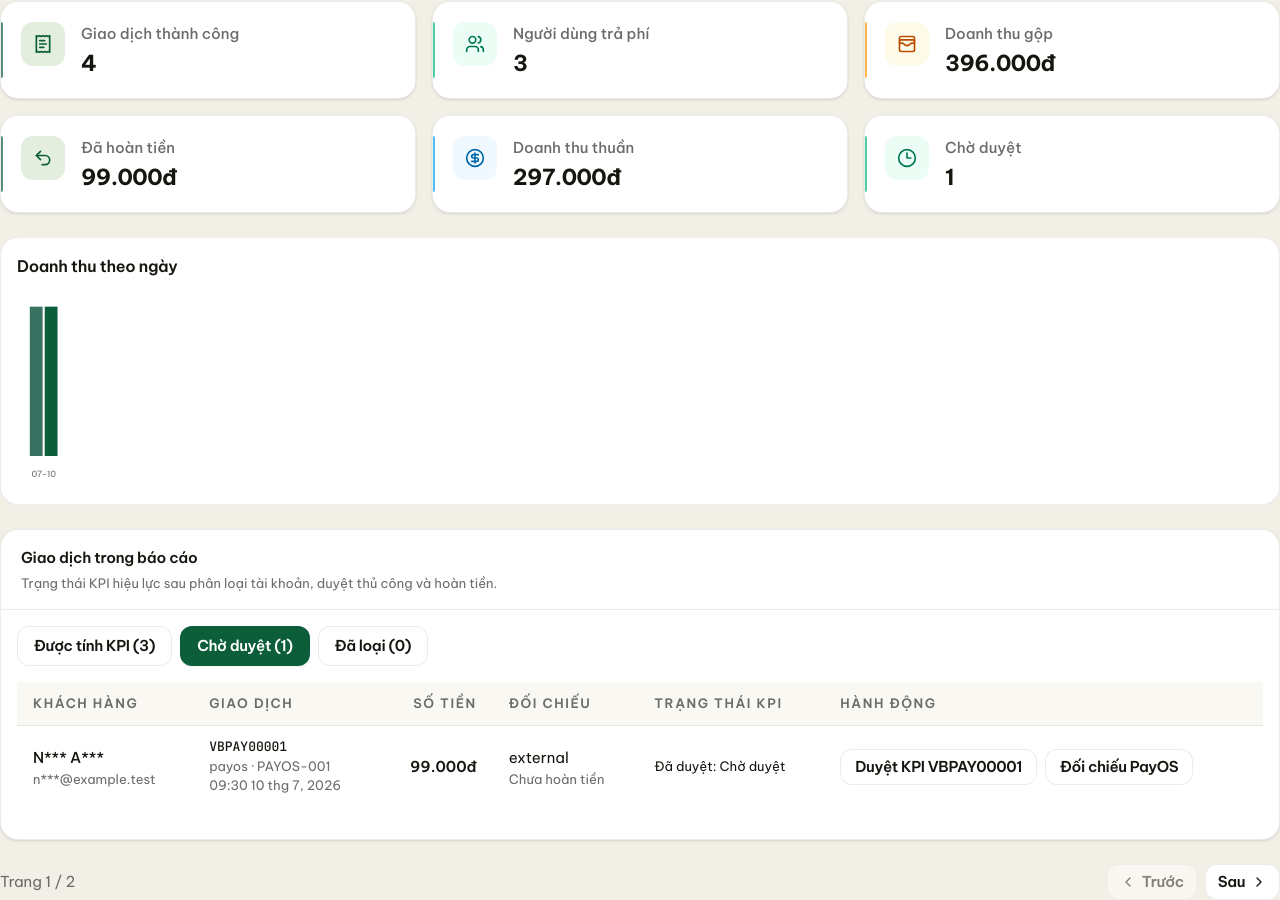
Scenario: AdminSalesReportPage › keeps review dialog open with a retryable error when PATCH fails
(page scrolled)
Click the button "Duyệt KPI VBPAY00001": (939,766) left=840, top=748, right=1037, bottom=784
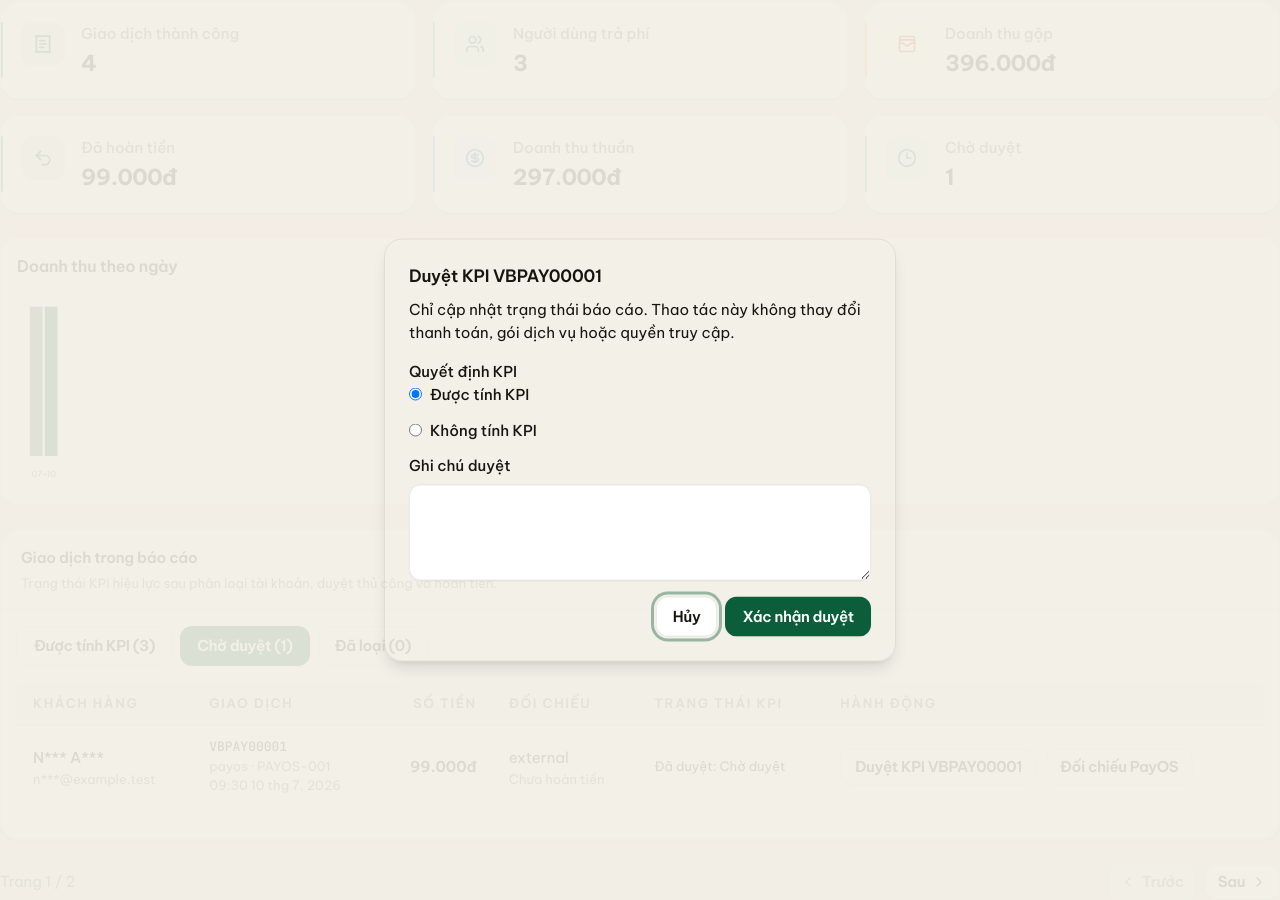
Click the radio button labelled "Được tính KPI": (416,394) left=409, top=388, right=422, bottom=401
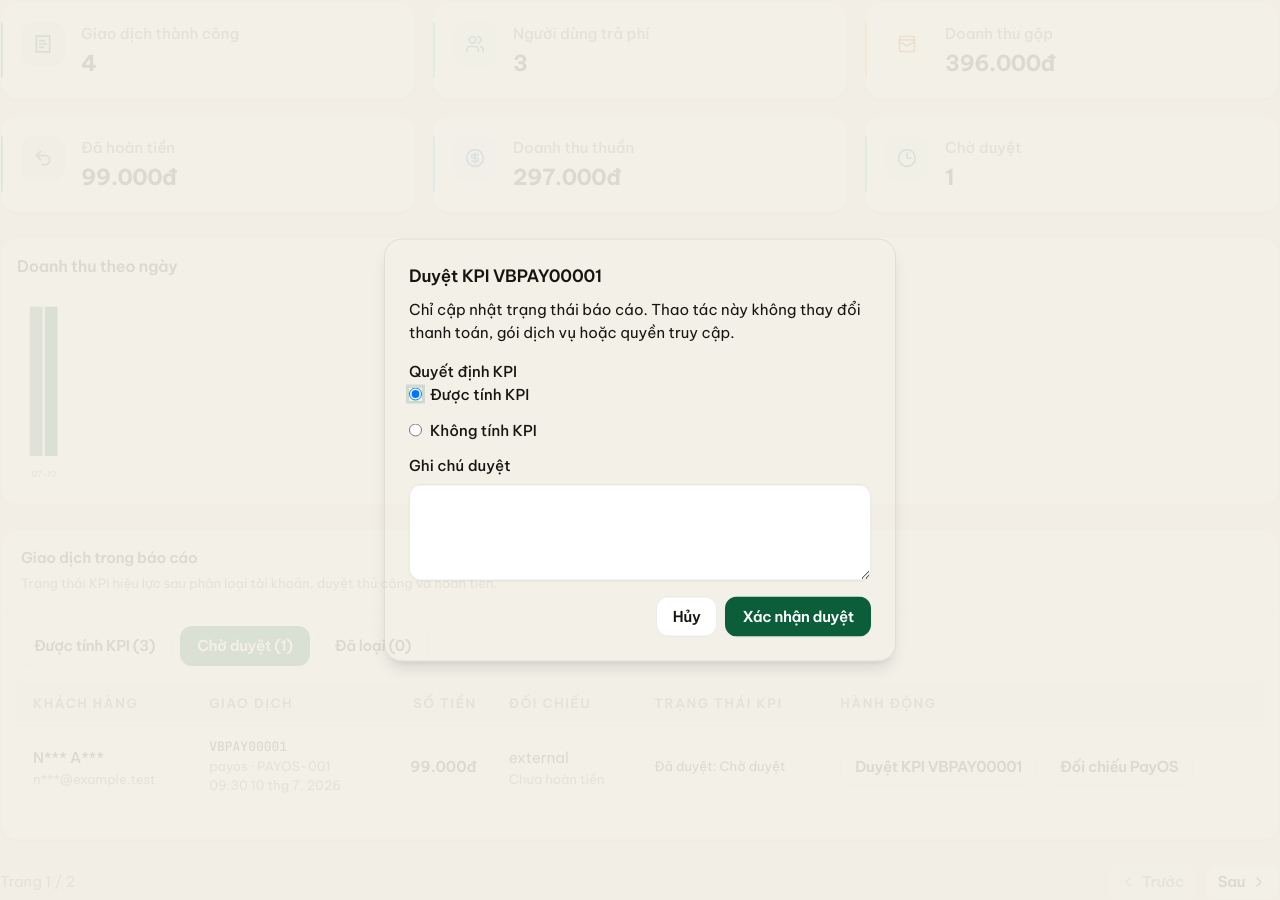
Click the button "Xác nhận duyệt": (798,616) left=726, top=596, right=871, bottom=636
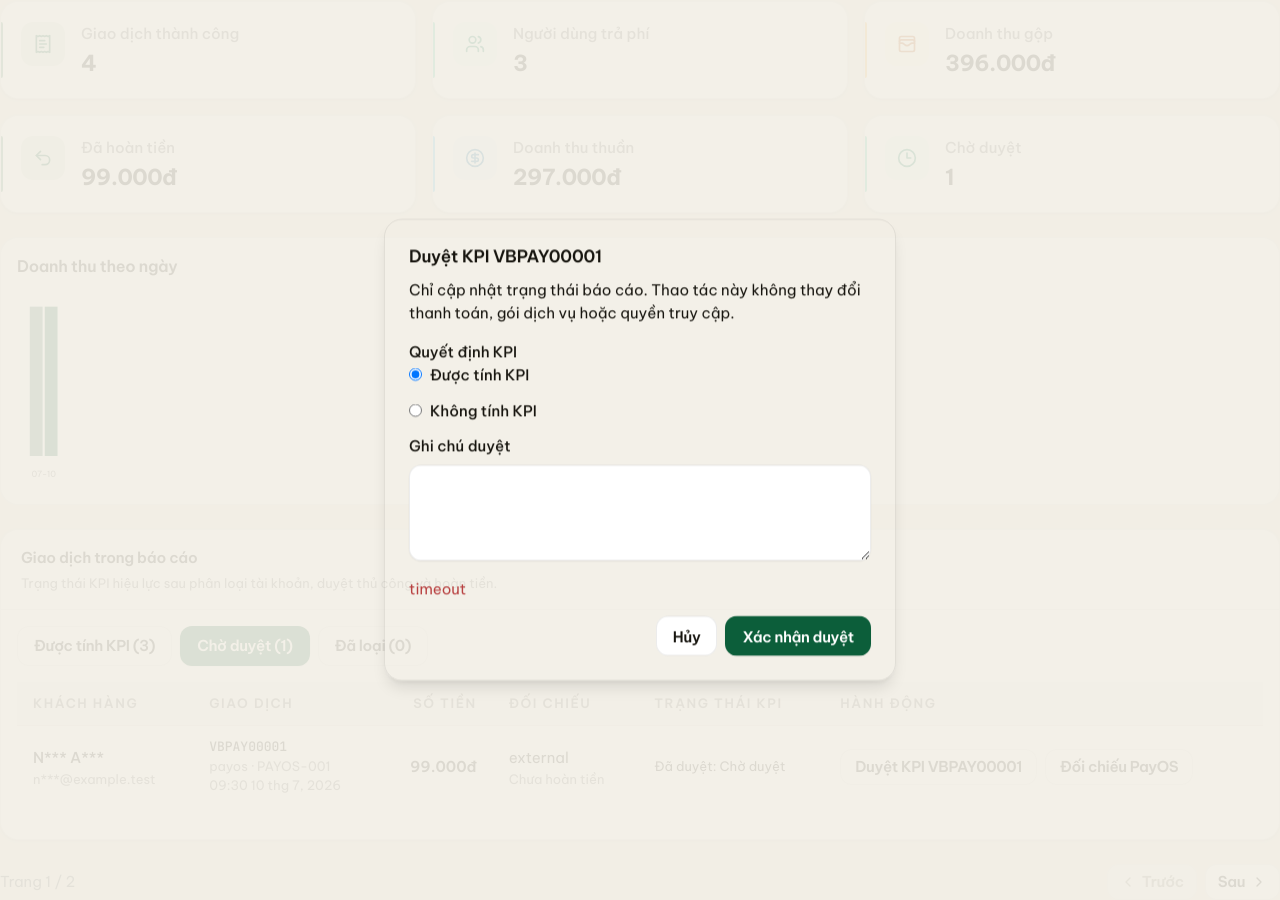
Expected: the dialog is shown, left=384, top=219, right=896, bottom=681
Expected: the text "timeout" is shown, left=409, top=579, right=466, bottom=598
